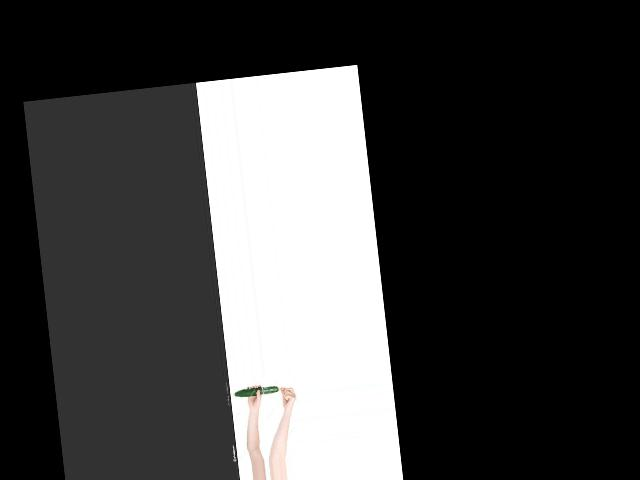cucumber: (232, 385, 278, 397)
